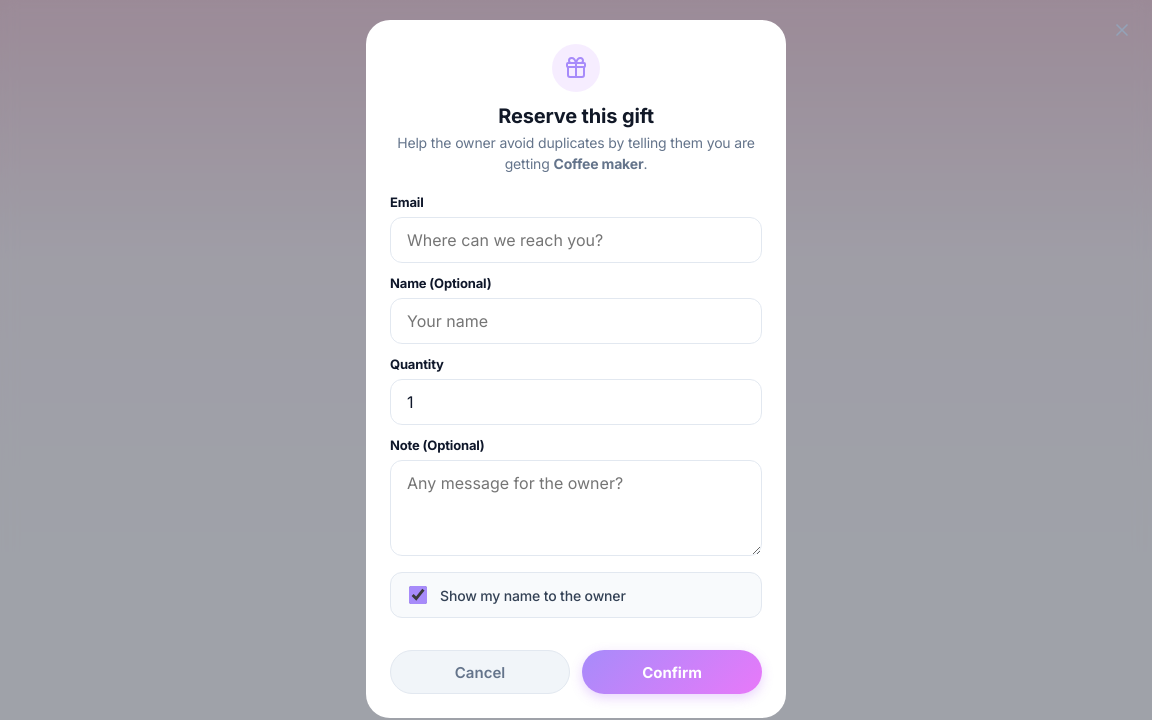
Test: ReservationForm › clamps typed zero quantity to one
Replace the text in the number field labelled "Quantity" with "0": point(576, 402) [390, 379, 762, 425]
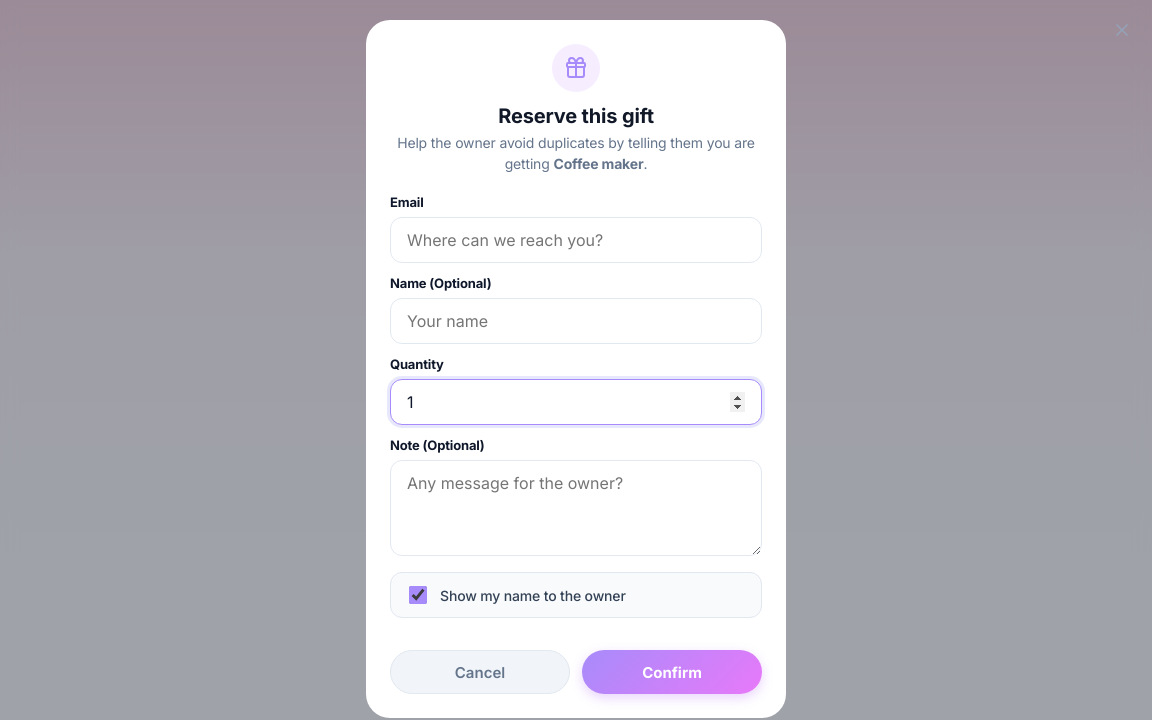
Result: the number field labelled "Quantity" holds "1" at [390, 379, 762, 425]
